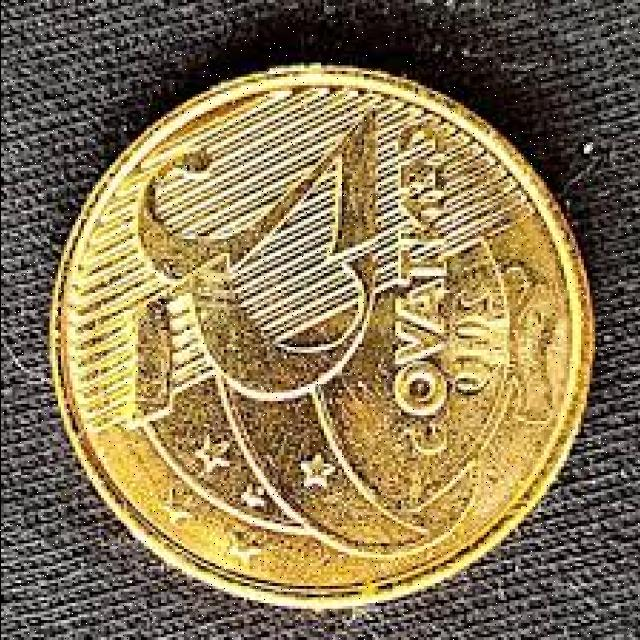25 cent: (41, 66, 592, 609)
